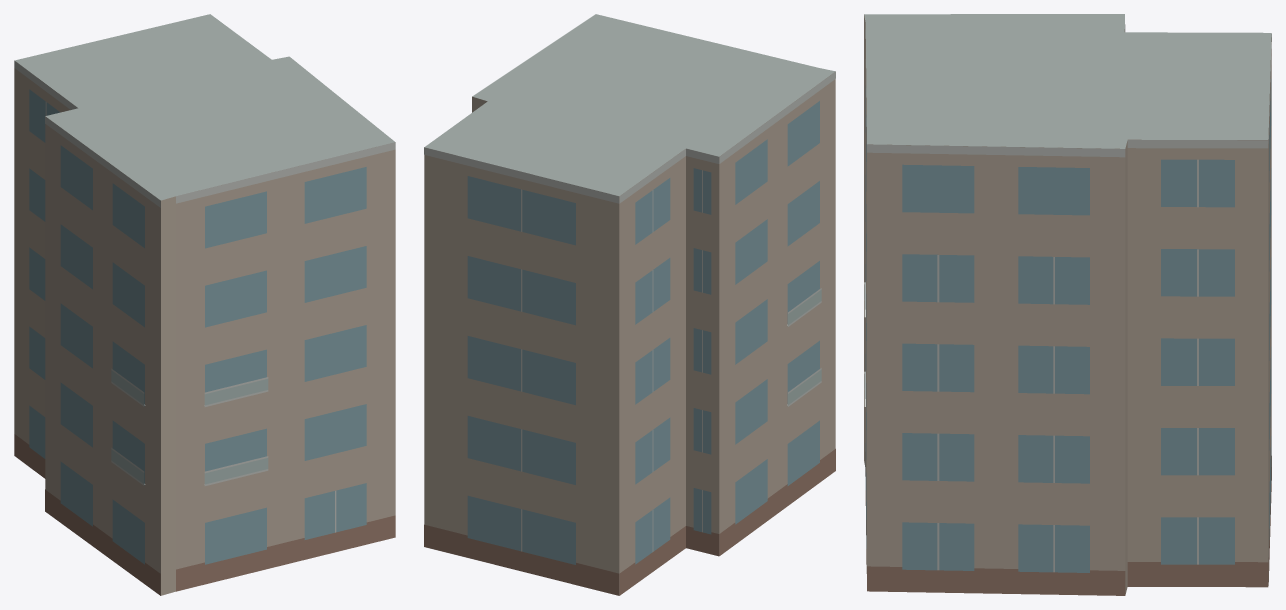
Rendered from survey-upis-33038070.glb.
The picture shows the model from 3 angles, left to right: view 1: azimuth 30°, elevation 25°; view 2: azimuth 150°, elevation 25°; view 3: azimuth 270°, elevation 25°; orthographic projection. The views are drawn at different scales.
Visible parts, largest first — view 1: survey-upis-33038070.tmp; view 2: survey-upis-33038070.tmp; view 3: survey-upis-33038070.tmp.
Part boxes in pixels (box(x1,y1,x2,y2)): survey-upis-33038070.tmp: box(14, 14, 395, 595); survey-upis-33038070.tmp: box(424, 14, 835, 595); survey-upis-33038070.tmp: box(864, 14, 1271, 595).
Size of the model in its own units: 8.45 by 13 by 10.75.
